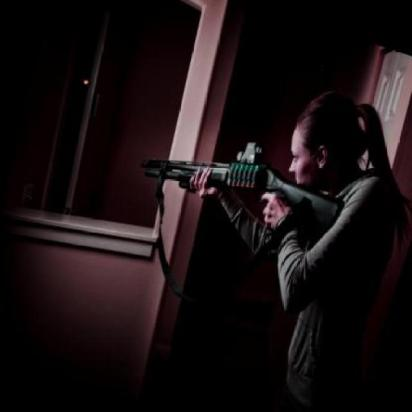Gun: (127, 109, 358, 257)
